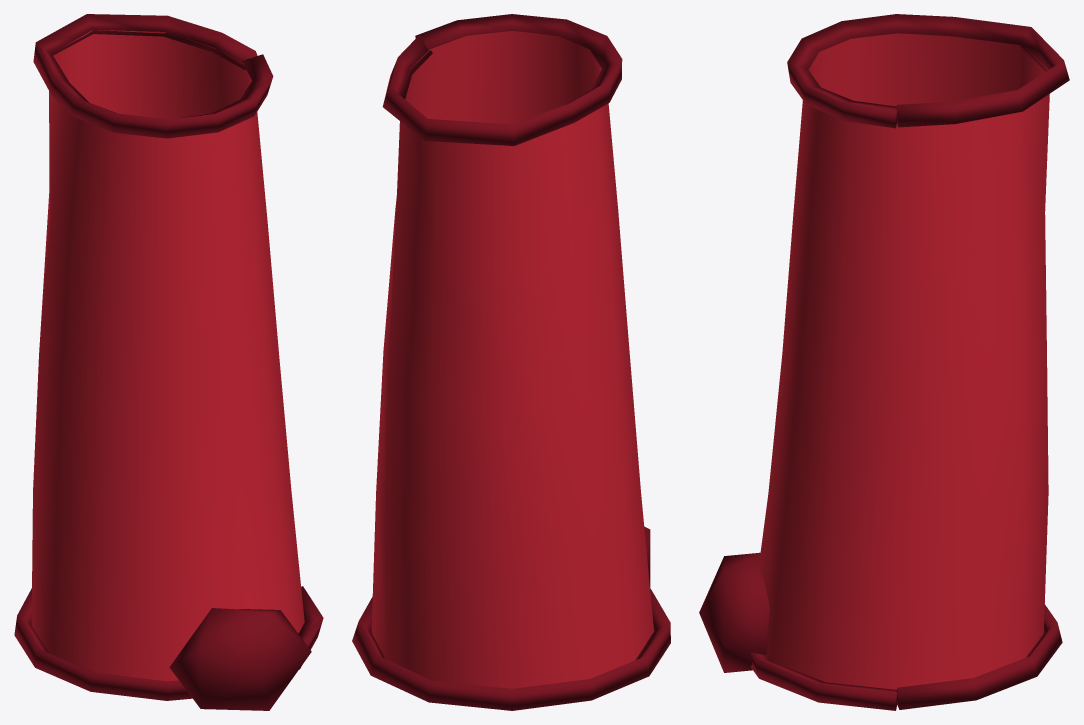
Rendered from adamantite_armor_greave.R.glb.
3 renders of one model, left to right at view 1: azimuth 30°, elevation 25°; view 2: azimuth 150°, elevation 25°; view 3: azimuth 270°, elevation 25°, orthographic. The views are drawn at different scales.
Parts seen in each view (by area): view 1: adamantite_armor_greave.R; view 2: adamantite_armor_greave.R; view 3: adamantite_armor_greave.R.
Boxes of the visible parts, x1,y1,x2,y2 form: adamantite_armor_greave.R: [14, 14, 323, 710]; adamantite_armor_greave.R: [352, 14, 670, 710]; adamantite_armor_greave.R: [699, 14, 1069, 710].
Bounding box in the file's own units: 0.1941 × 0.4045 × 0.2252.
